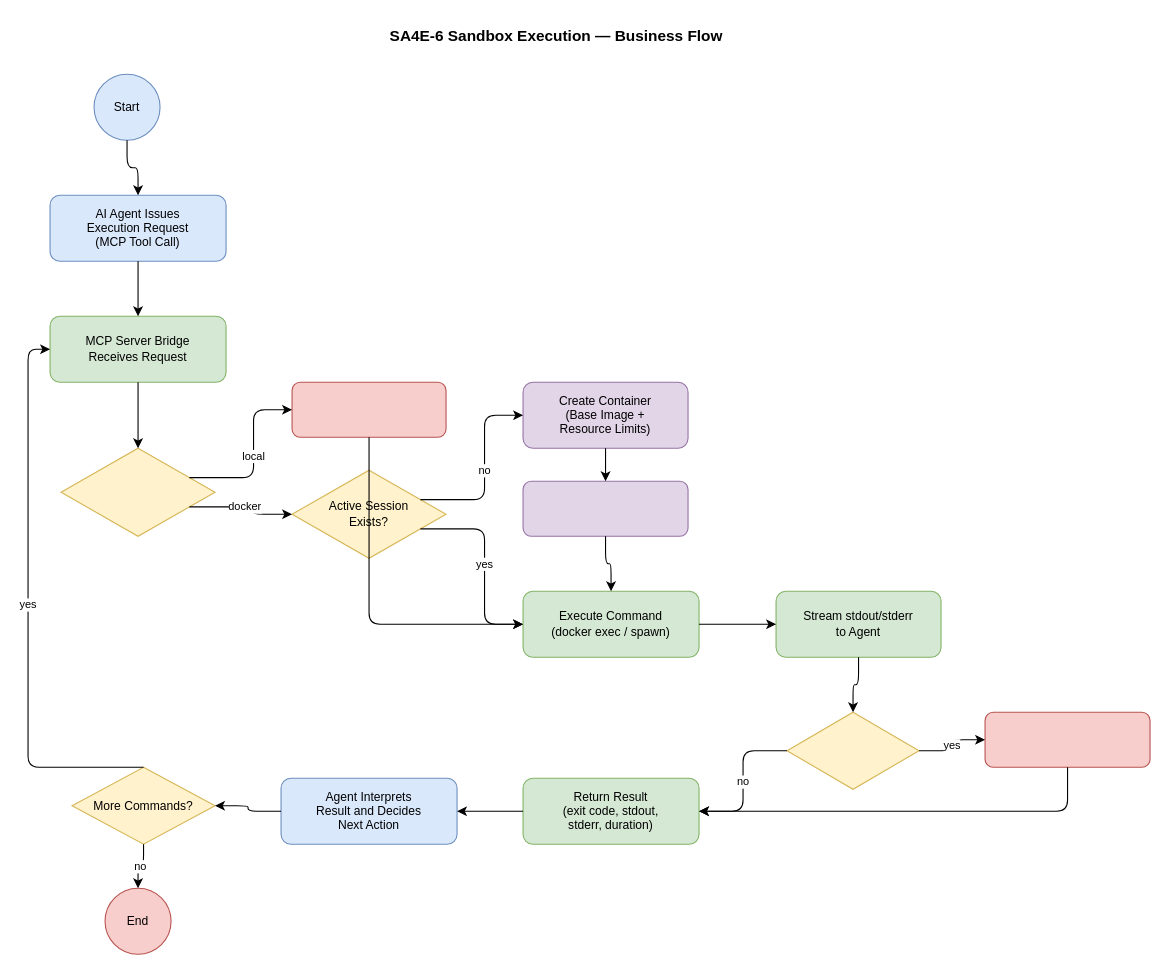
The diagram is 1169 pixels wide and 974 high, and some of its shapes have lost their labels. The centre of each missing label's shape, as x and y in pixels:
Execution Mode?: [137,491]
Kill Process Return Timeout Error: [1067,739]
Local Execution (Direct on Host): [368,409]
Mount Workspace (Bind Mount): [605,508]
Timeout?: [852,750]
